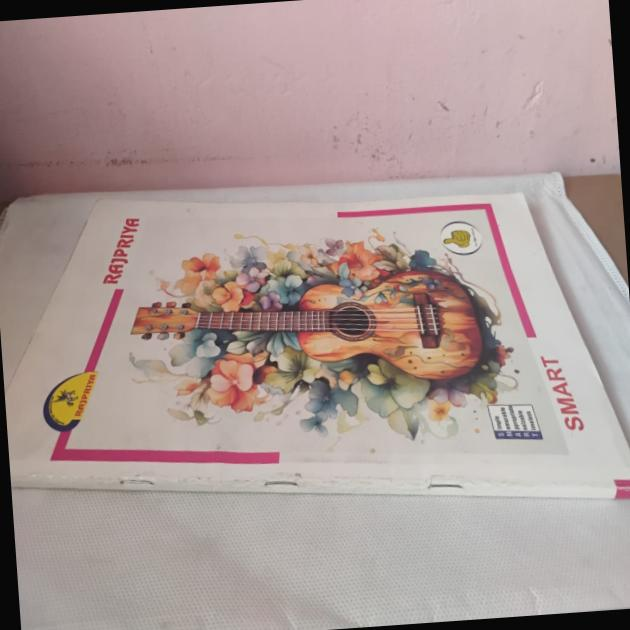notebook: (47, 155, 630, 553)
